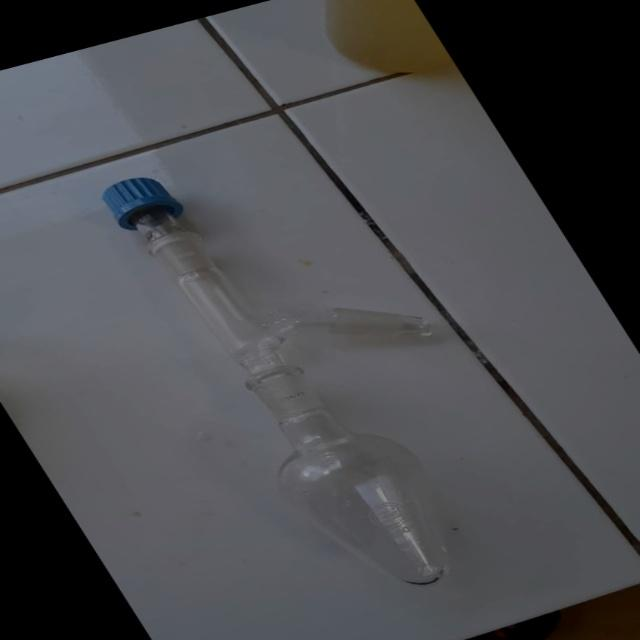Distillation: (12, 117, 600, 634)
